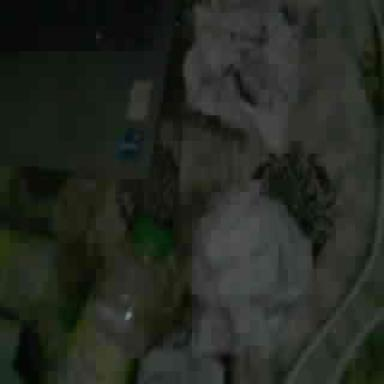paper: (192, 176, 312, 349), (184, 0, 298, 154)
